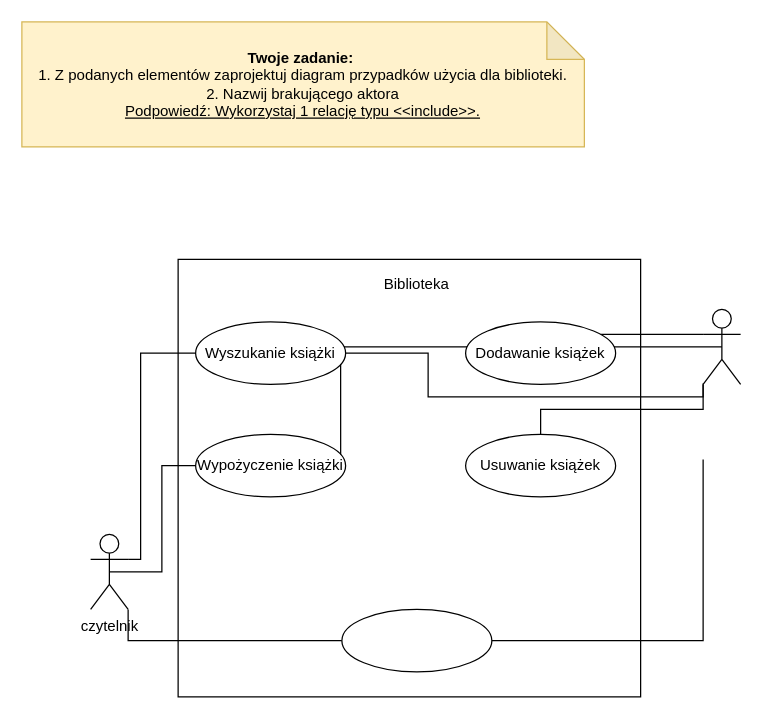
Image size: 783x719. Some labels were removed from this diagram. The centre of each missing label's shape, as x and y in pixels:
"Bibliotekarz" belongs at (721,346).
"Prolongata książki" belongs at (416,640).
